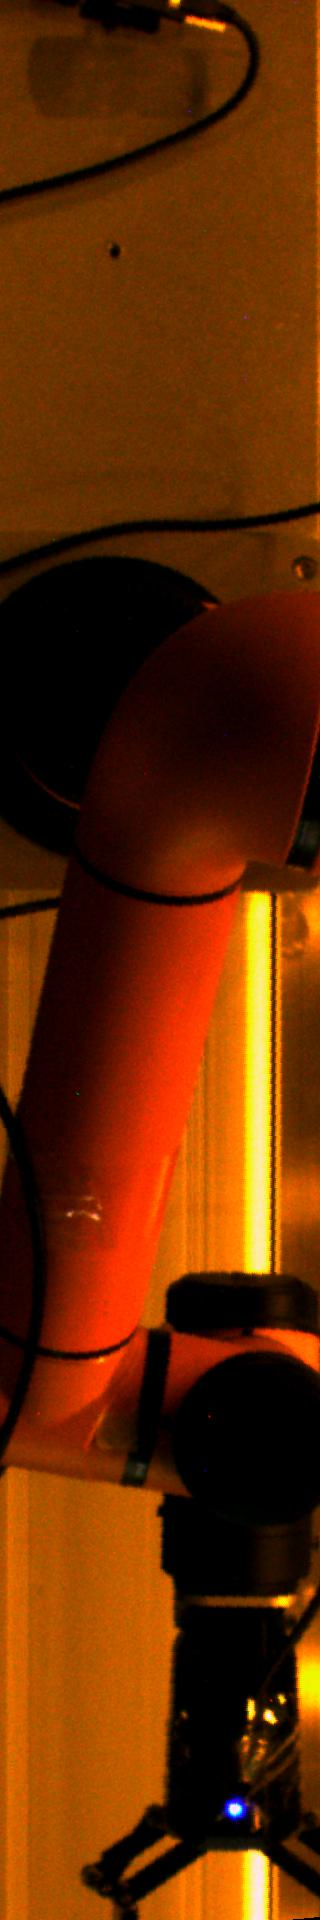keyPoint_1: (219, 1791, 250, 1822)
keyPoint_2: (99, 238, 129, 267)
